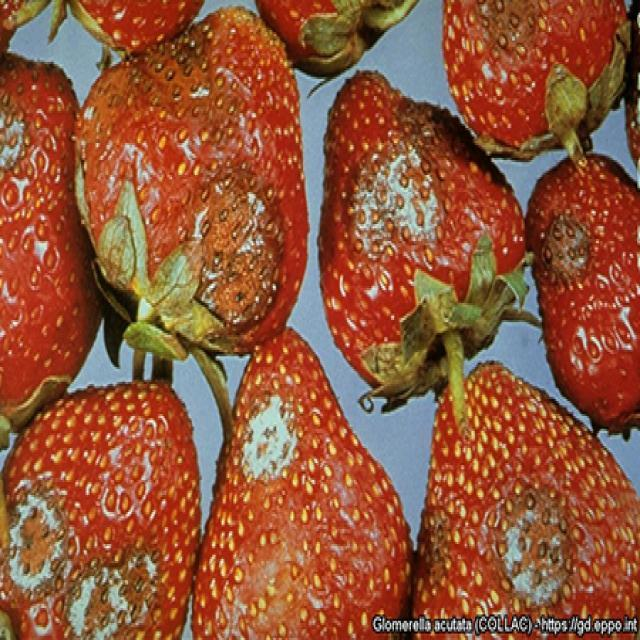Mancha negra Antracnosis: (71, 34, 308, 336), (321, 58, 511, 356), (433, 379, 624, 633), (6, 405, 196, 640), (434, 0, 623, 140), (533, 160, 640, 398)
